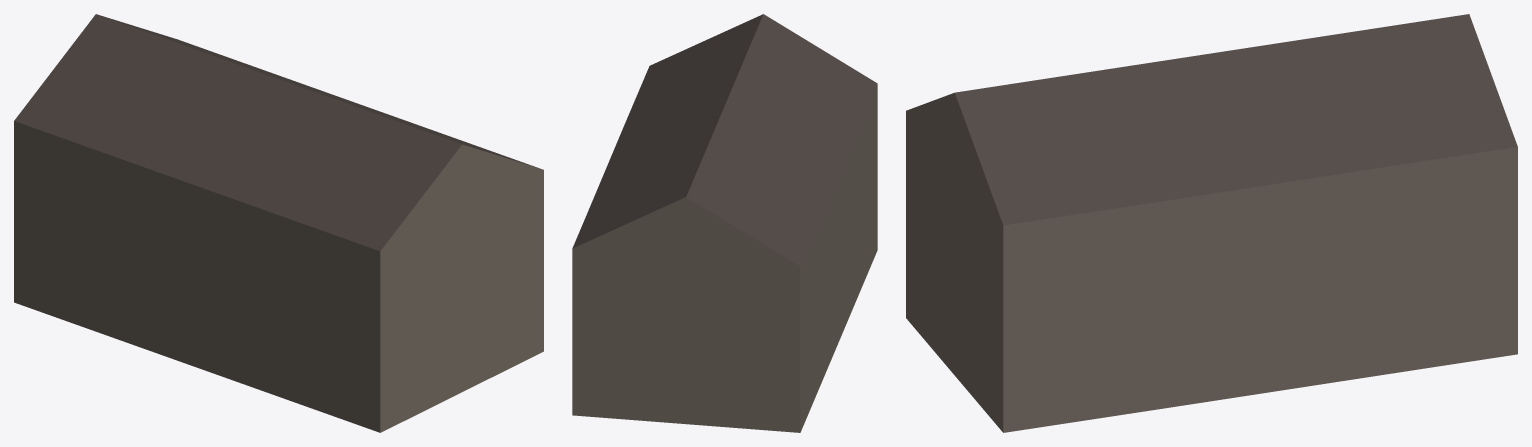
3 renders of one model, left to right at view 1: azimuth 30°, elevation 25°; view 2: azimuth 150°, elevation 25°; view 3: azimuth 270°, elevation 25°, orthographic. The views are drawn at different scales.
Parts seen in each view (by area): view 1: HP-w1198020604; view 2: HP-w1198020604; view 3: HP-w1198020604.
Boxes of the visible parts, x1=… form: HP-w1198020604: x1=14, y1=14, x2=543, y2=432; HP-w1198020604: x1=572, y1=14, x2=877, y2=432; HP-w1198020604: x1=906, y1=14, x2=1517, y2=432.
Bounding box in the file's own units: 12.01 × 8.19 × 16.04.
